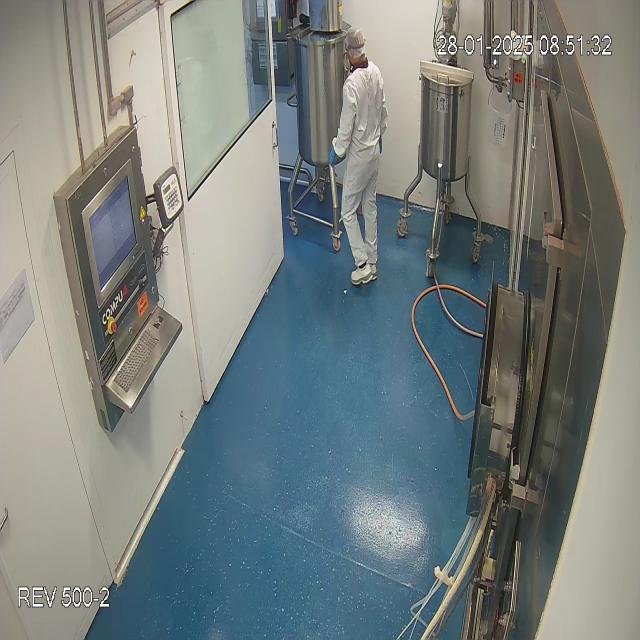bota: (350, 263, 380, 287)
pessoa: (329, 27, 388, 284)
touca: (340, 23, 371, 68)
